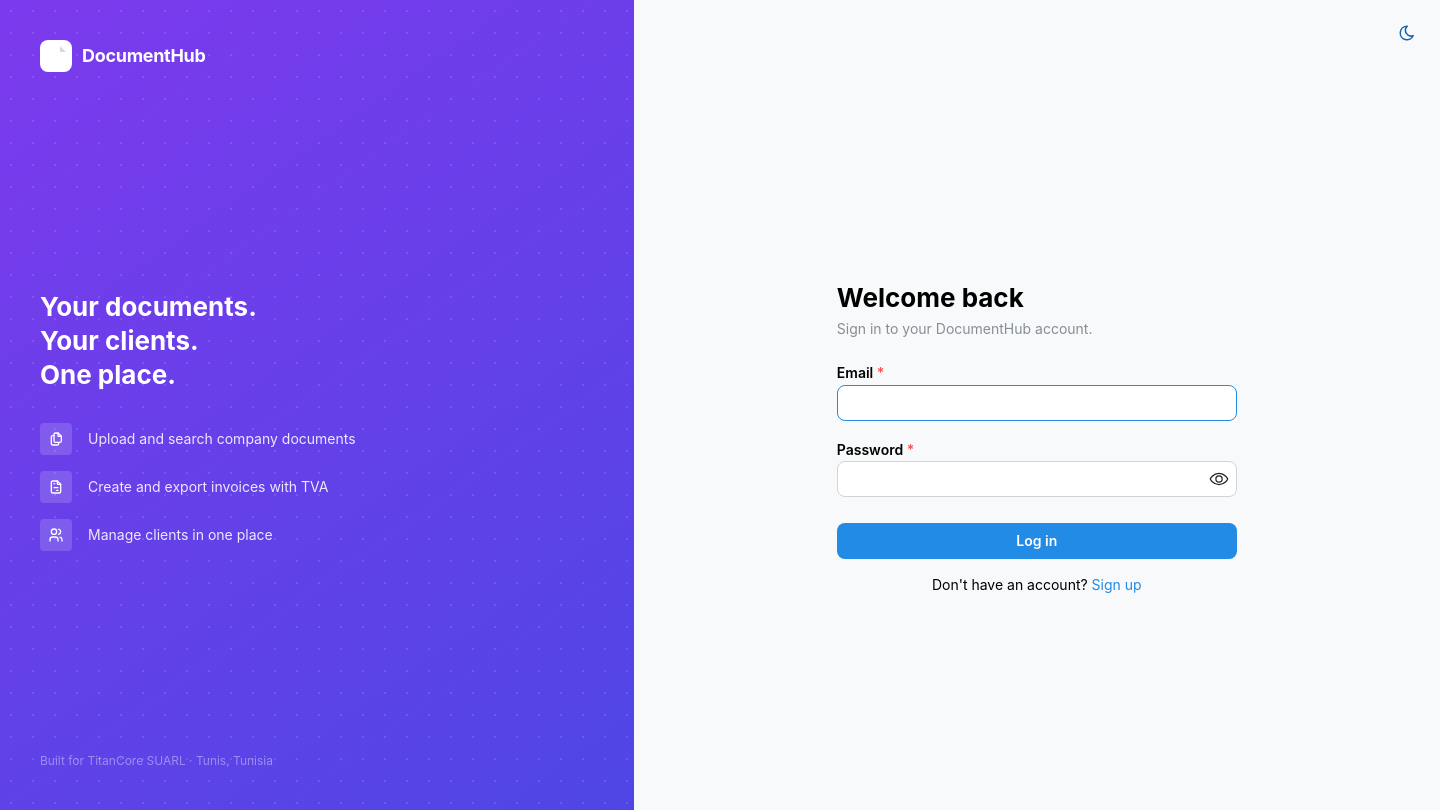
Test case: LoginForm › shows validation errors when fields are empty
What coordinates should you click on to do the following:
click the button "Log in"
I would click on:
 (1037, 541)
Its box is [837, 523, 1237, 559].
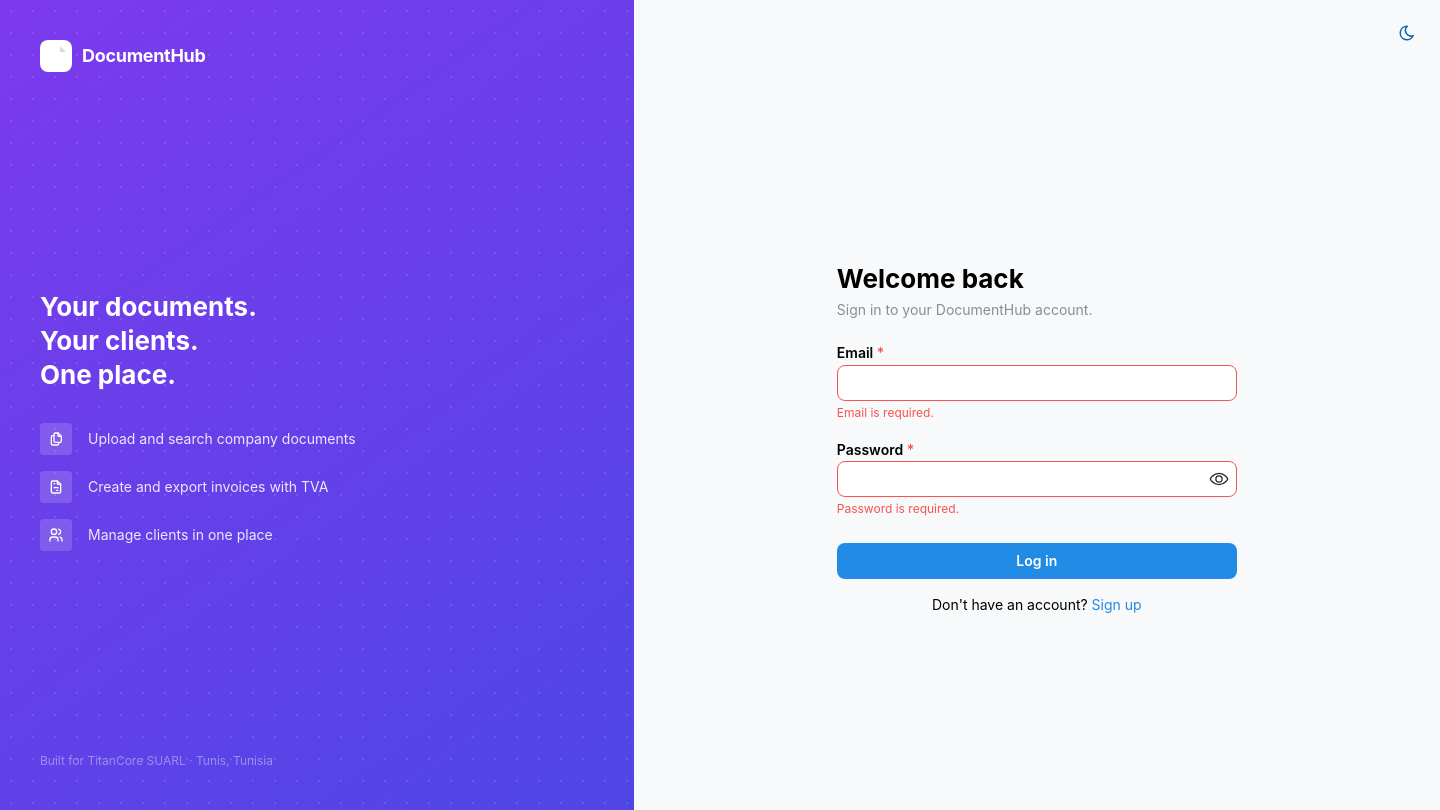
expect the text "Email is required." is shown: met, box [837, 405, 934, 420]
expect the text "Password is required." is shown: met, box [837, 501, 959, 516]
